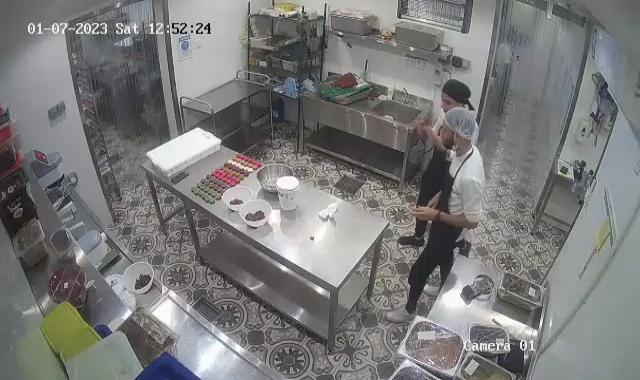hairnet: (443, 110, 479, 146)
no_hairnet: (442, 76, 472, 107)
